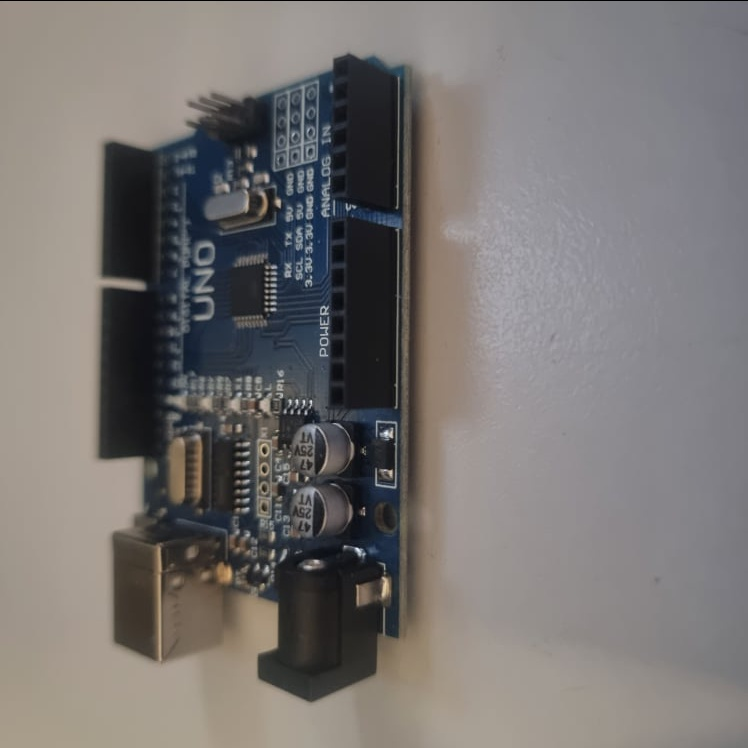UNO R3: (92, 51, 416, 702)
